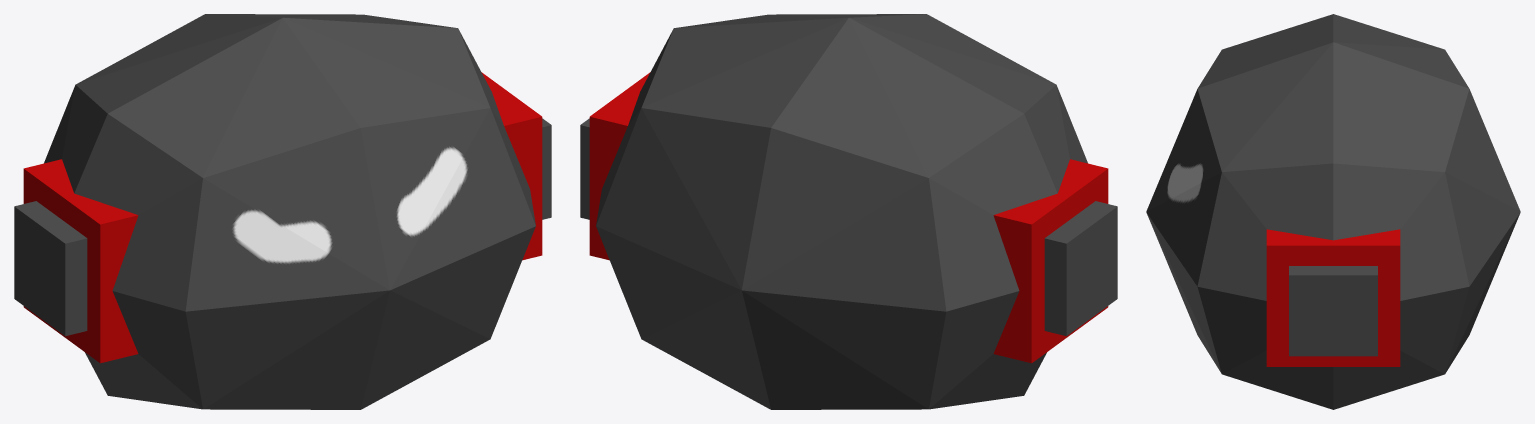
Rendered from EnemyBody.obj.
3 views of the same model, side by side, from view 1: azimuth 30°, elevation 25°; view 2: azimuth 150°, elevation 25°; view 3: azimuth 270°, elevation 25° (orthographic). The views are drawn at different scales.
Parts seen in each view (by area): view 1: 立方体; view 2: 立方体; view 3: 立方体.
Boxes of the visible parts, x1,y1,x2,y2 form: 立方体: [14, 14, 551, 409]; 立方体: [580, 14, 1117, 409]; 立方体: [1146, 14, 1520, 409].
Size of the model in its own units: 4.4 by 3.36 by 3.36.
